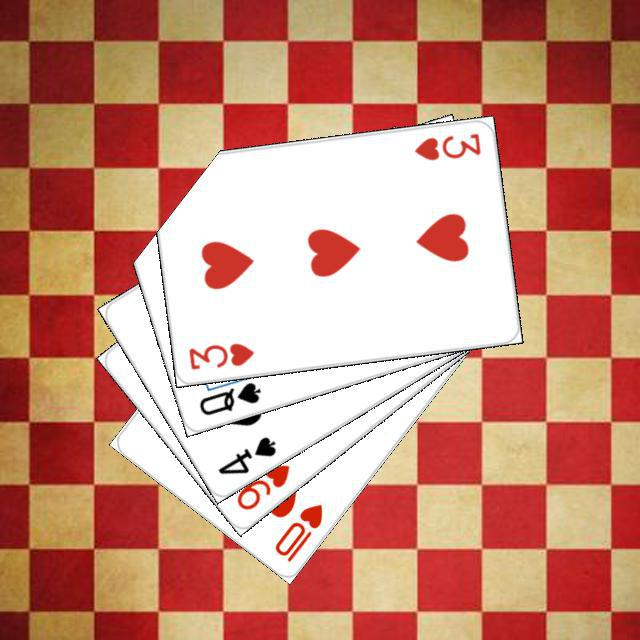10h: (269, 499, 325, 564)
3h: (409, 128, 482, 162), (183, 338, 256, 371)
4s: (213, 431, 278, 476)
9h: (231, 459, 292, 512)
Qs: (194, 377, 263, 417)
